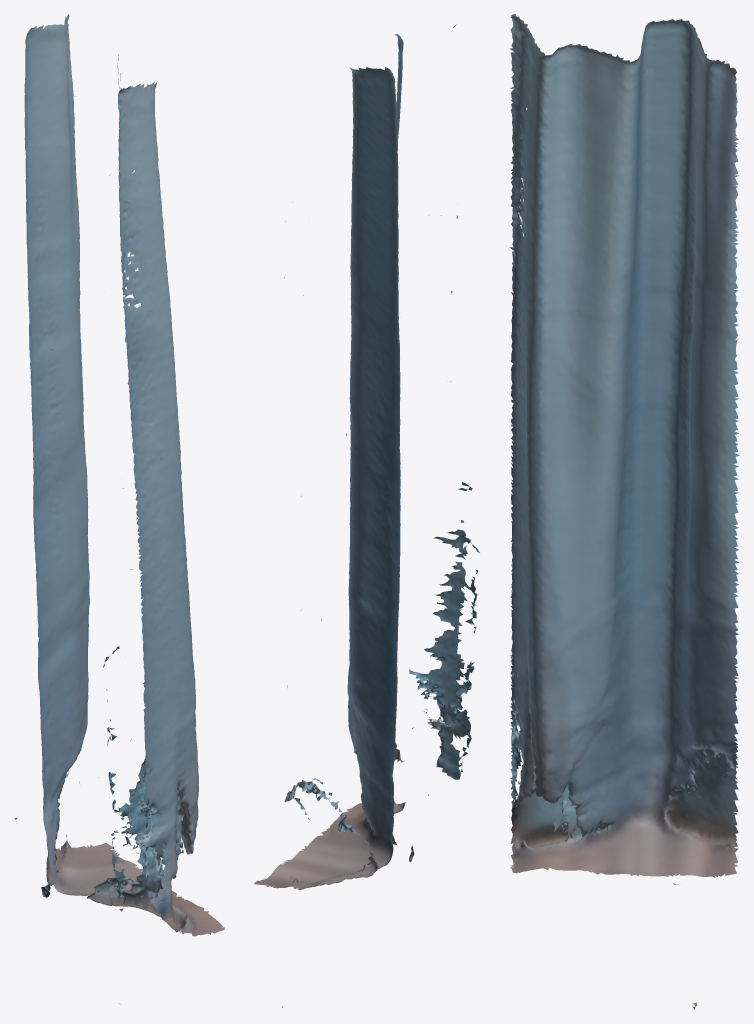
The model's file is apartment-full-14-328e259639f0.glb.
The picture shows the model from 3 angles, left to right: view 1: azimuth 30°, elevation 25°; view 2: azimuth 150°, elevation 25°; view 3: azimuth 270°, elevation 25°; orthographic projection. The views are drawn at different scales.
Bounding box in the file's own units: 0.321 × 2.17 × 0.476.
